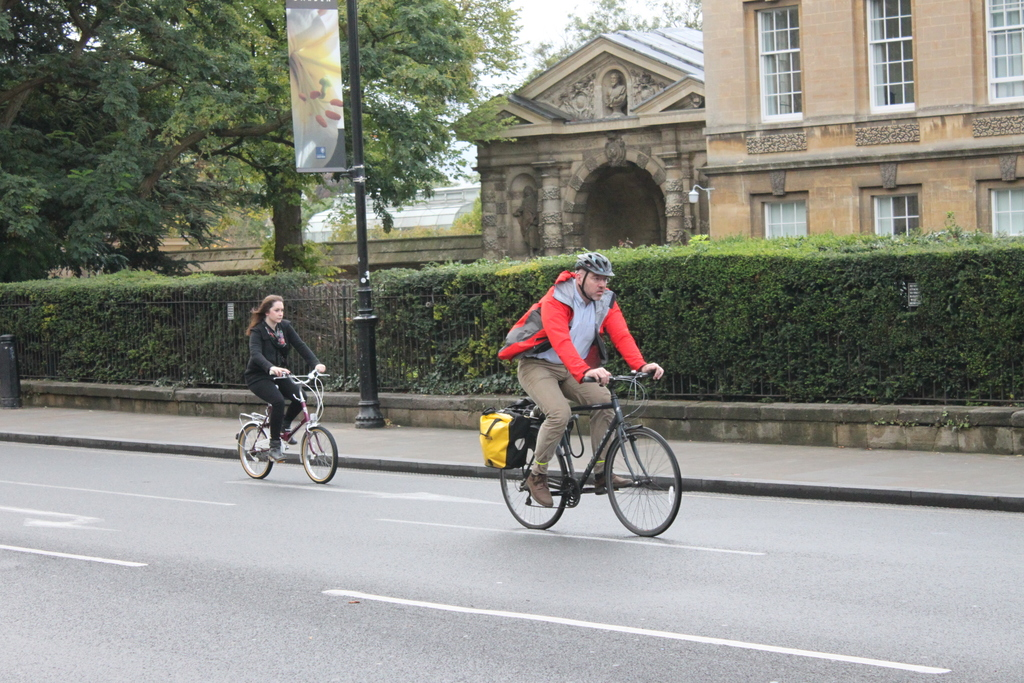Bike_toward: (485, 367, 684, 538), (235, 366, 344, 485)
